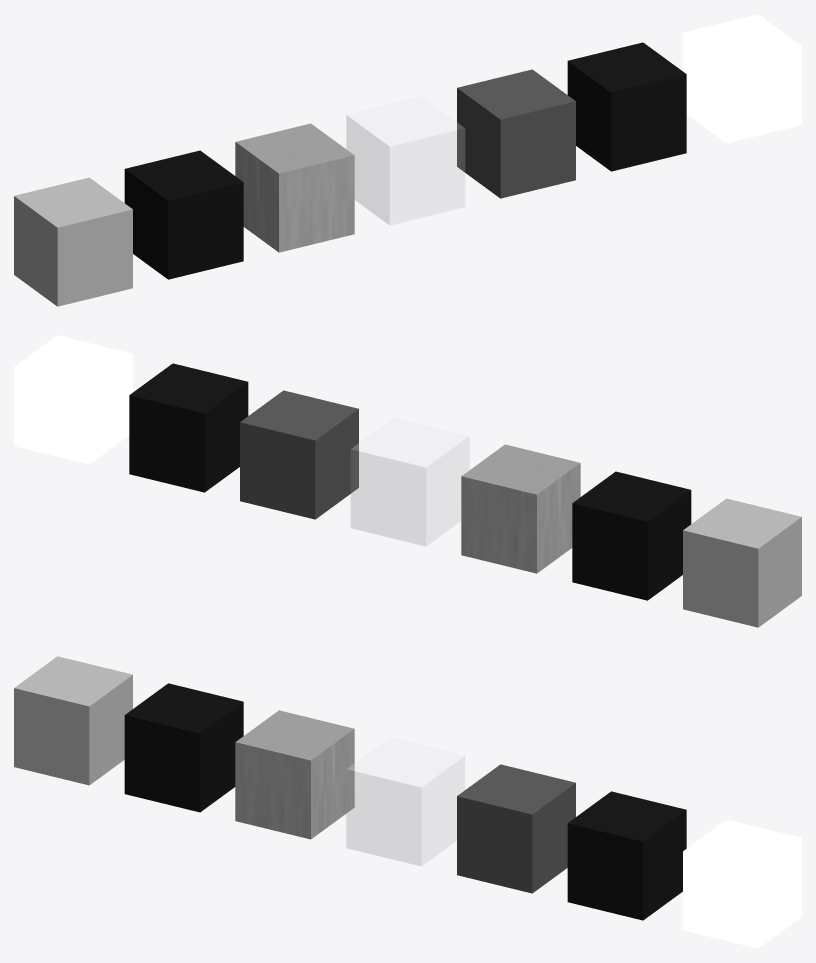
Rendered from Materials.gltf.
The picture shows the model from 3 angles, top to bottom: view 1: azimuth 30°, elevation 25°; view 2: azimuth 150°, elevation 25°; view 3: azimuth 330°, elevation 25°; orthographic projection.
Visible parts, largest first — view 1: Box005, Box001, Box007, Box003, Box002, Box006, Box004; view 2: Box005, Box001, Box007, Box003, Box002, Box006, Box004; view 3: Box003, Box007, Box006, Box002, Box005, Box001, Box004.
Part boxes in pixels (x1=…): Box005: x1=457, y1=69, x2=575, y2=198; Box001: x1=14, y1=177, x2=132, y2=306; Box007: x1=683, y1=14, x2=801, y2=143; Box003: x1=235, y1=123, x2=354, y2=252; Box002: x1=124, y1=150, x2=243, y2=279; Box006: x1=567, y1=42, x2=686, y2=171; Box004: x1=346, y1=97, x2=464, y2=225; Box005: x1=240, y1=390, x2=358, y2=519; Box001: x1=683, y1=498, x2=801, y2=627; Box007: x1=14, y1=335, x2=132, y2=464; Box003: x1=461, y1=444, x2=580, y2=573; Box002: x1=572, y1=471, x2=691, y2=600; Box006: x1=129, y1=363, x2=248, y2=492; Box004: x1=351, y1=418, x2=469, y2=546; Box003: x1=235, y1=710, x2=354, y2=839; Box007: x1=683, y1=819, x2=801, y2=948; Box006: x1=567, y1=791, x2=686, y2=920; Box002: x1=124, y1=683, x2=243, y2=812; Box005: x1=457, y1=764, x2=575, y2=893; Box001: x1=14, y1=656, x2=132, y2=785; Box004: x1=346, y1=737, x2=464, y2=865.
Size of the model in its own units: 0.0987 by 0.01 by 0.01.
